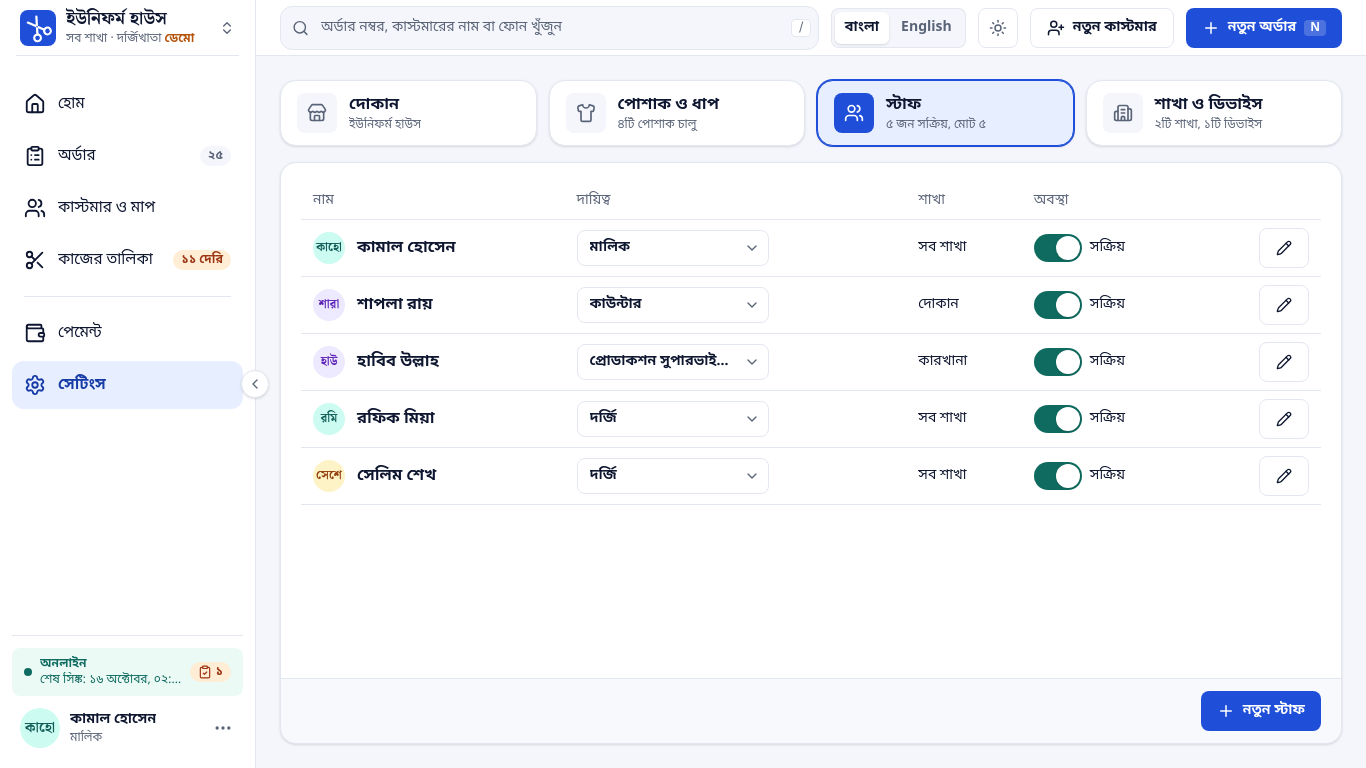
Test: Desktop staff table › masks the PIN in the panel and never shows one in the table
Click the button named "সেলিম শেখ: বদলান" at (1284, 476), box top-left (1259, 456), bottom-right (1309, 496)
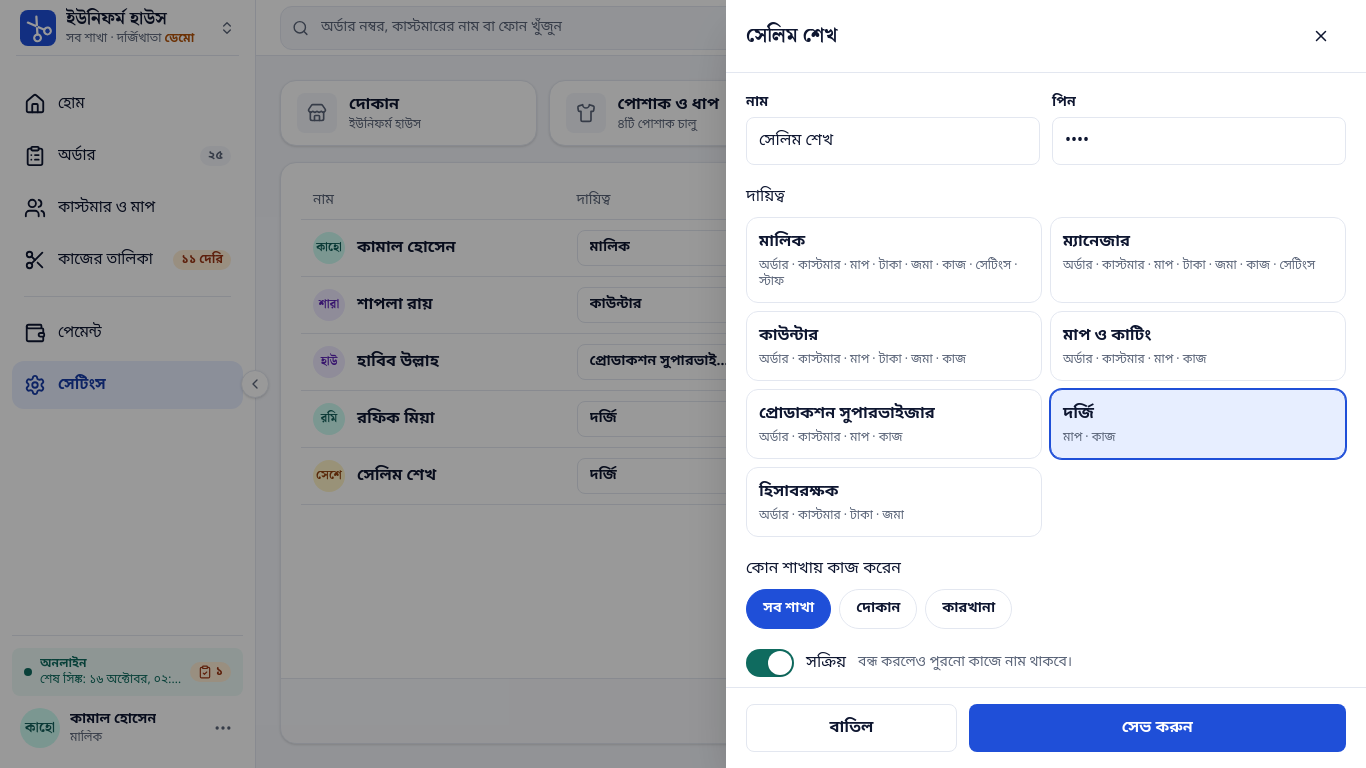
Expected: the password field labelled "পিন" is not empty, top-left (1053, 121), bottom-right (1345, 161)
